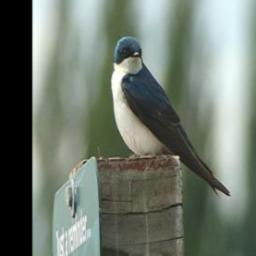Swallow: (110, 35, 231, 198)
